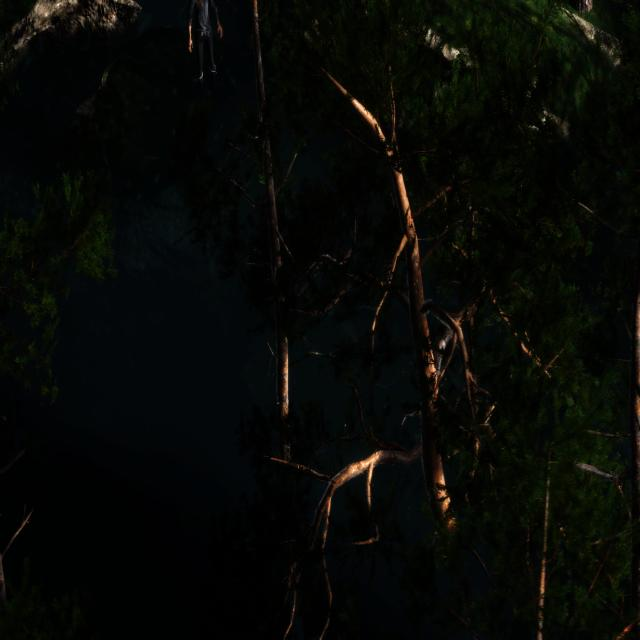Human: (185, 0, 220, 101)
